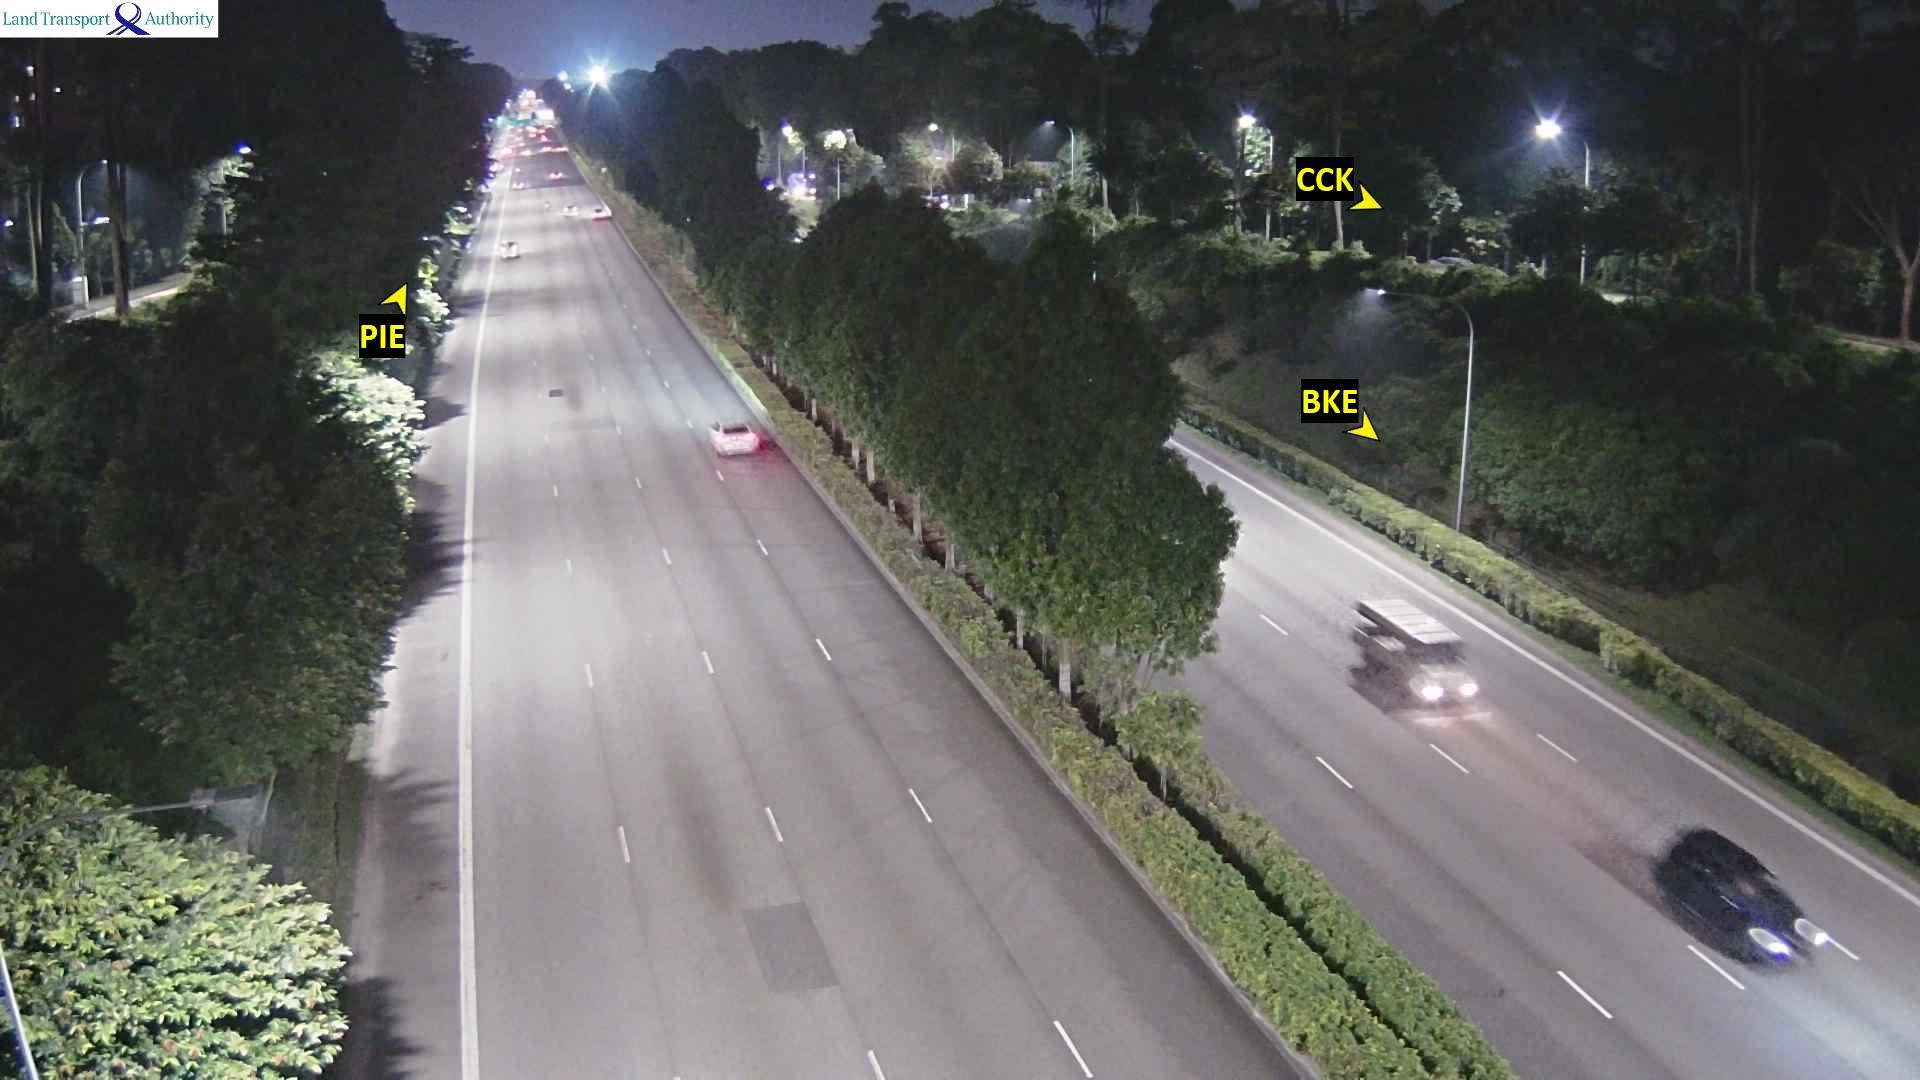incoming: (1721, 871, 1837, 972), (1411, 643, 1492, 714)
